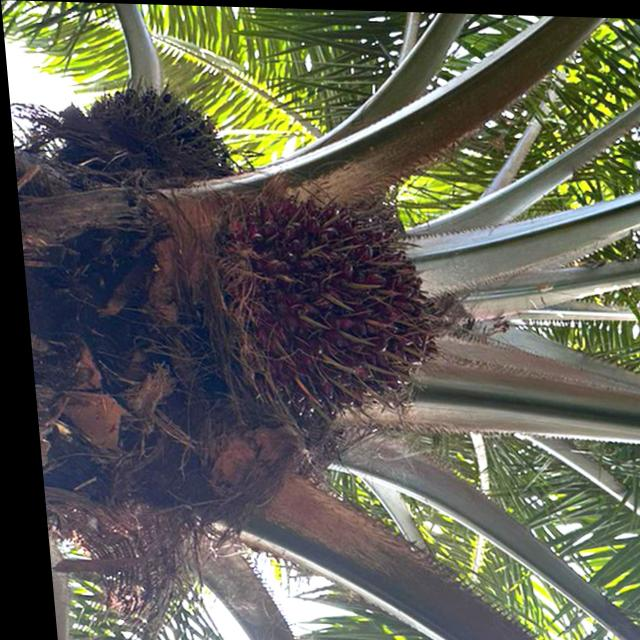ripe: (243, 197, 440, 430), (67, 76, 233, 218)
